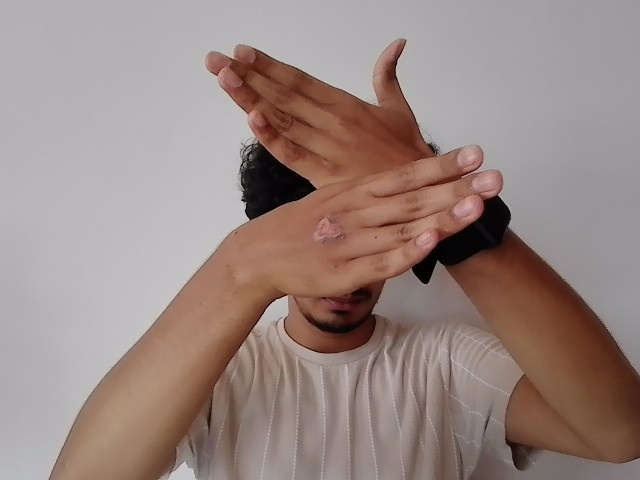busy: (207, 34, 506, 298)
